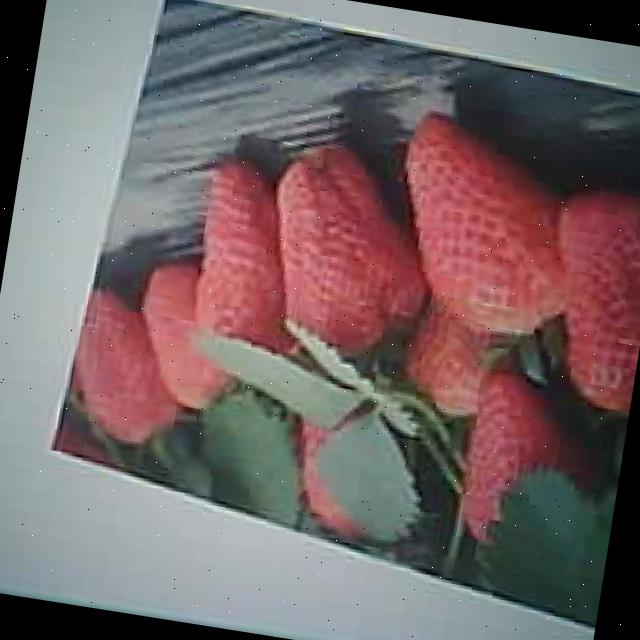strawberry: (381, 118, 586, 342), (255, 147, 435, 352), (534, 192, 640, 409)
